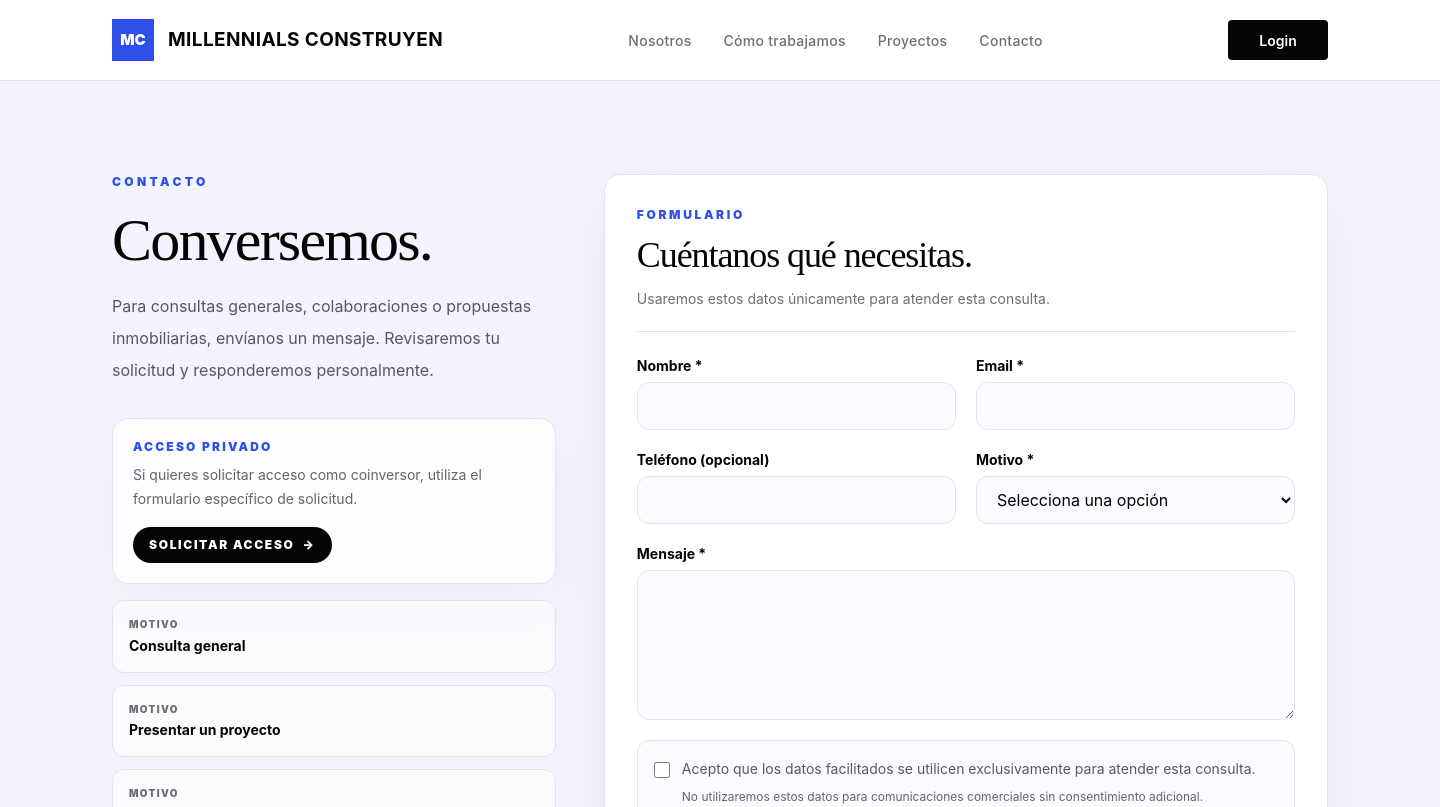
Test case: ContactSection form › shows success message, clears fields and moves focus after submission
This screenshot has width=1440, height=807.
(page scrolled)
Type "María García" into the field labelled "Nombre *" at (796, 406), box x1=637 y1=382 x2=956 y2=430
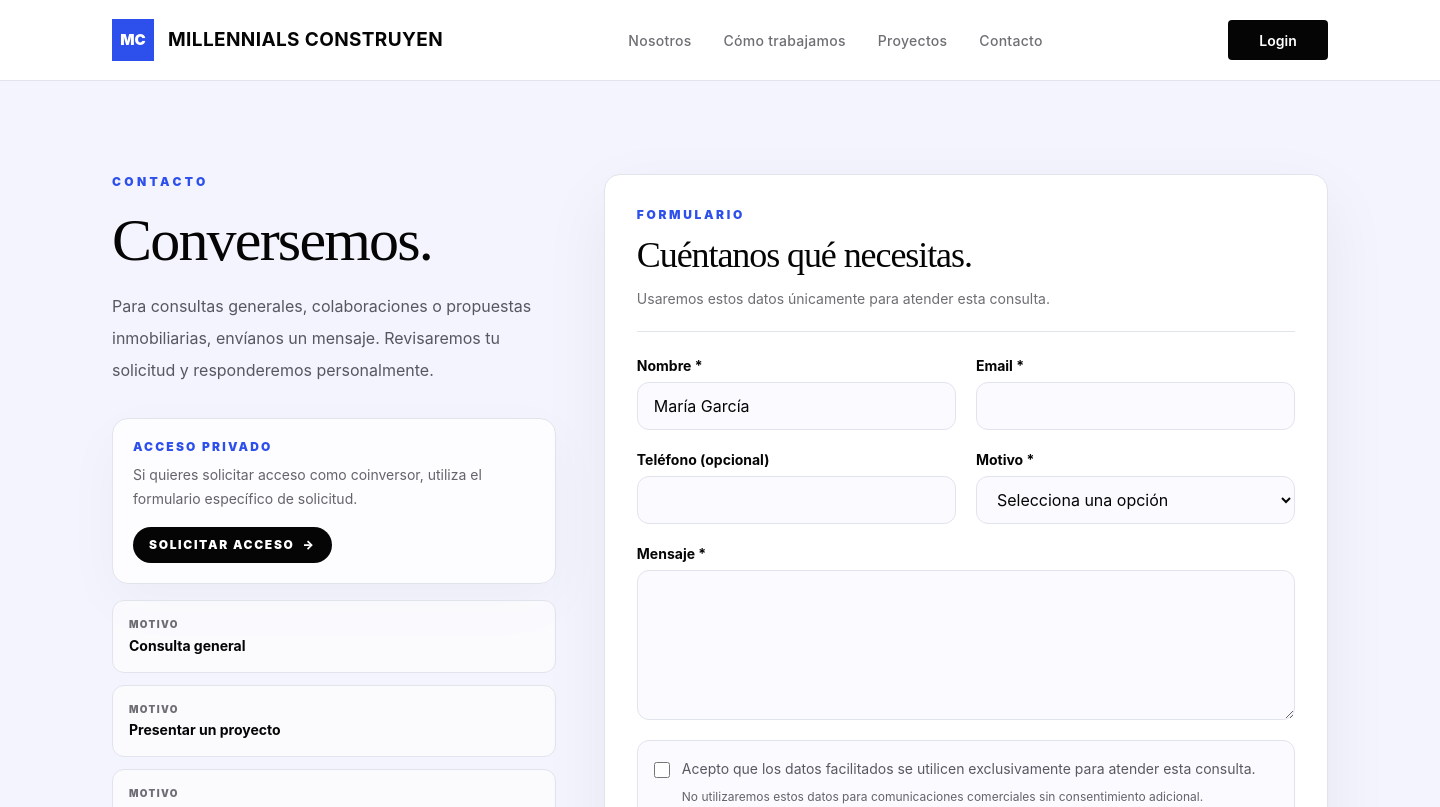
Type "maria@example.com" into the field labelled "Email *" at (1135, 406), box x1=976 y1=382 x2=1295 y2=430
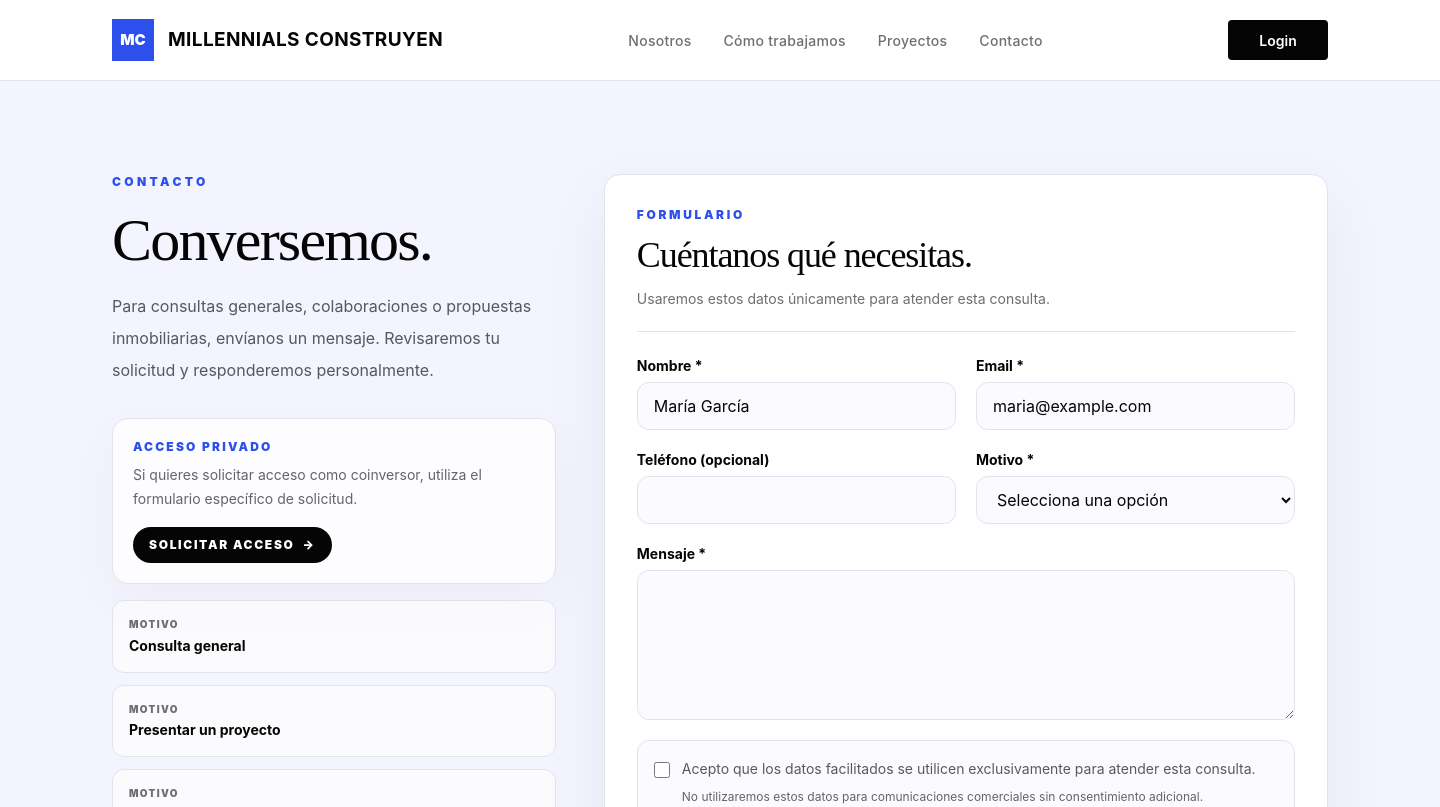
Select "Consulta general" in the dropdown labelled "Motivo *" at (1135, 500), box x1=976 y1=476 x2=1295 y2=524
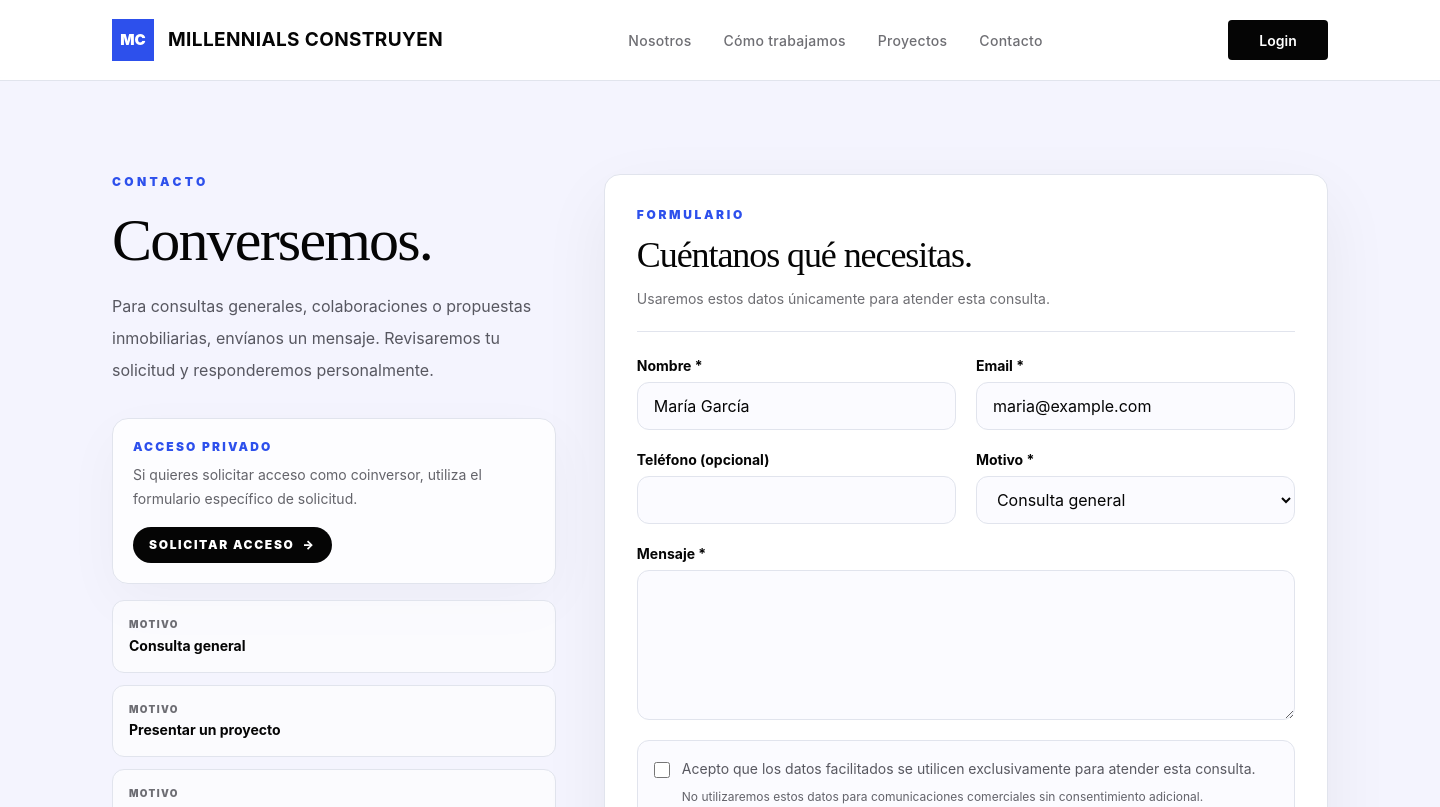
Type "Me gustaría recibir más información sobre sus servicios de inversión inmobiliaria." into the text box labelled "Mensaje *" at (966, 645), box x1=637 y1=570 x2=1295 y2=720
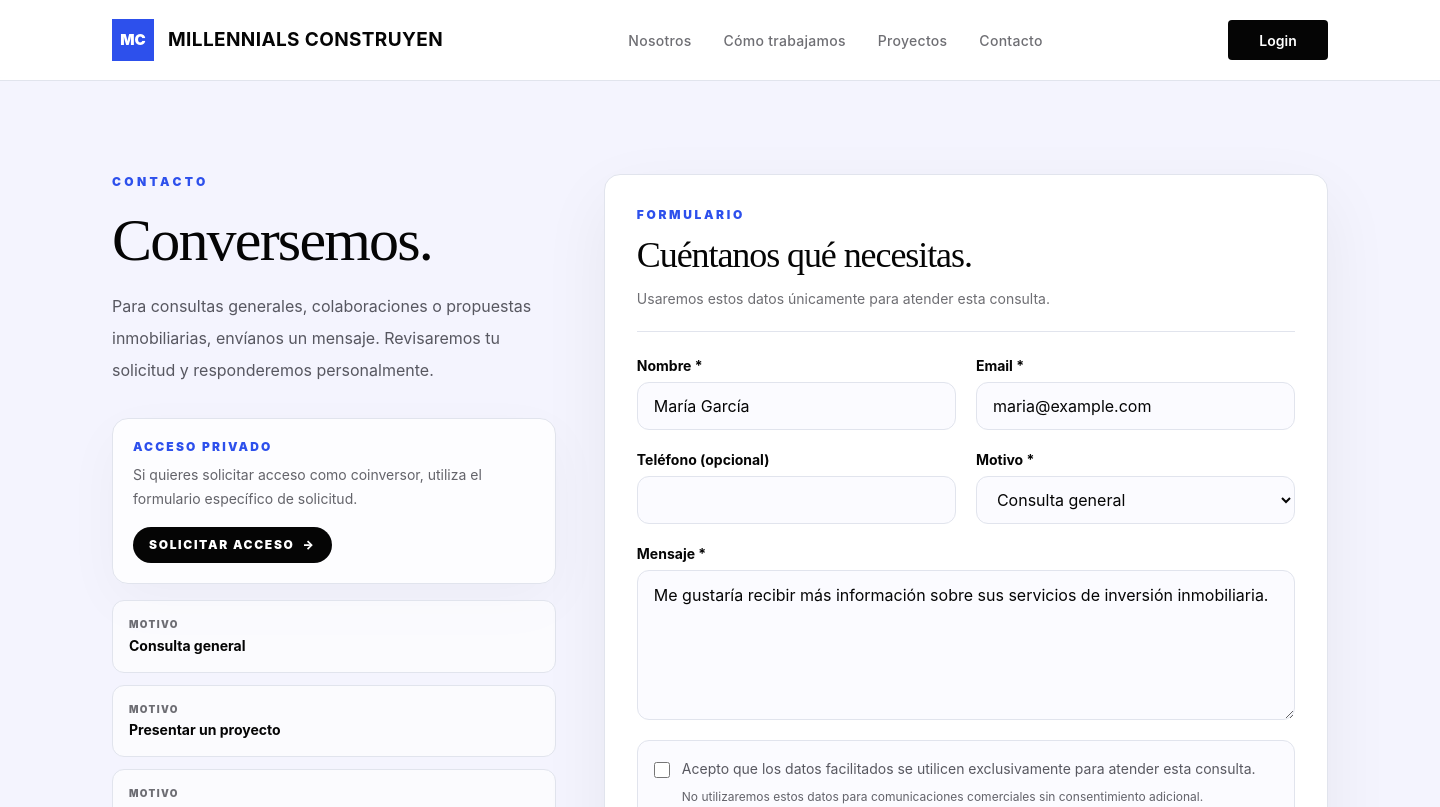
Click the checkbox labelled "Acepto que los datos facilitados" at (662, 770), box x1=654 y1=762 x2=670 y2=778
(page scrolled)
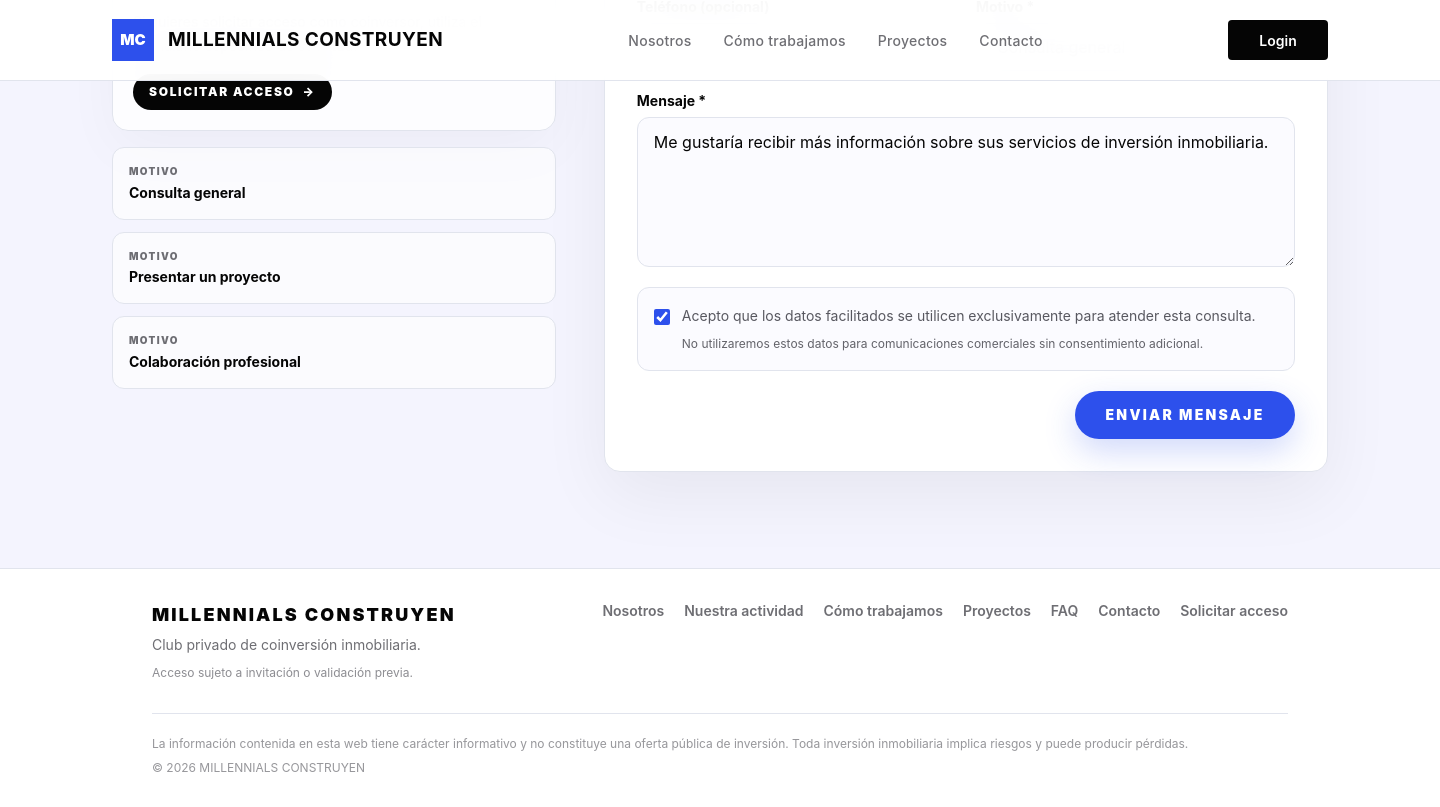
Click the button "Enviar mensaje" at (1185, 415), box x1=1075 y1=391 x2=1295 y2=439
(page scrolled)
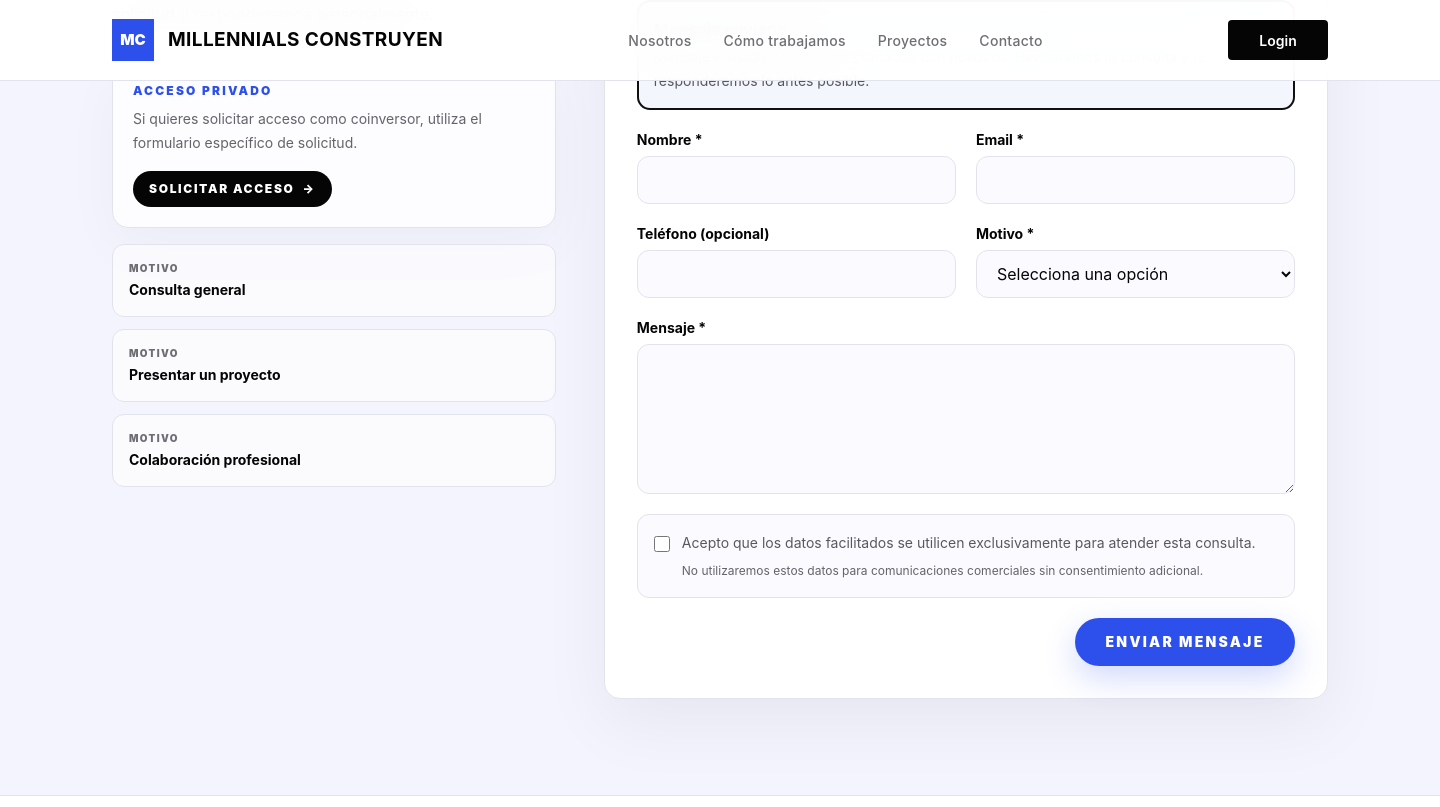
Expected: the message shows "Mensaje enviado", x1=654 y1=19 x2=786 y2=39
Result: the message shows "Gracias por contactar" at x1=654 y1=48 x2=1206 y2=89
